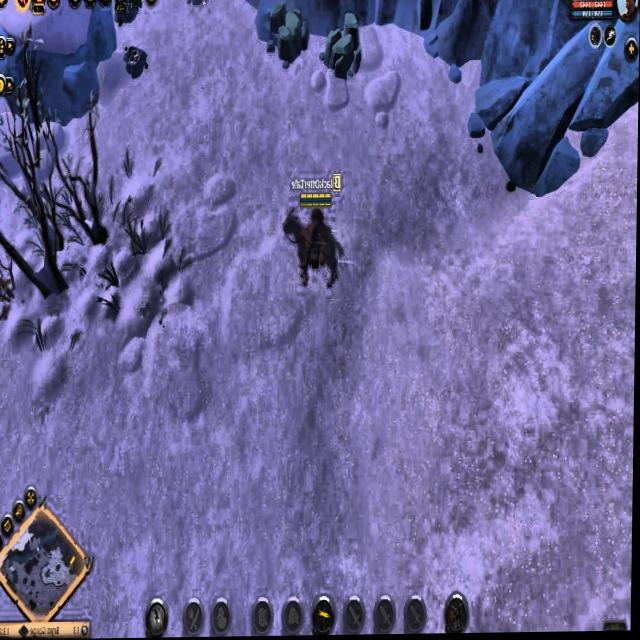sandstone: (321, 9, 364, 82), (264, 2, 310, 66)
